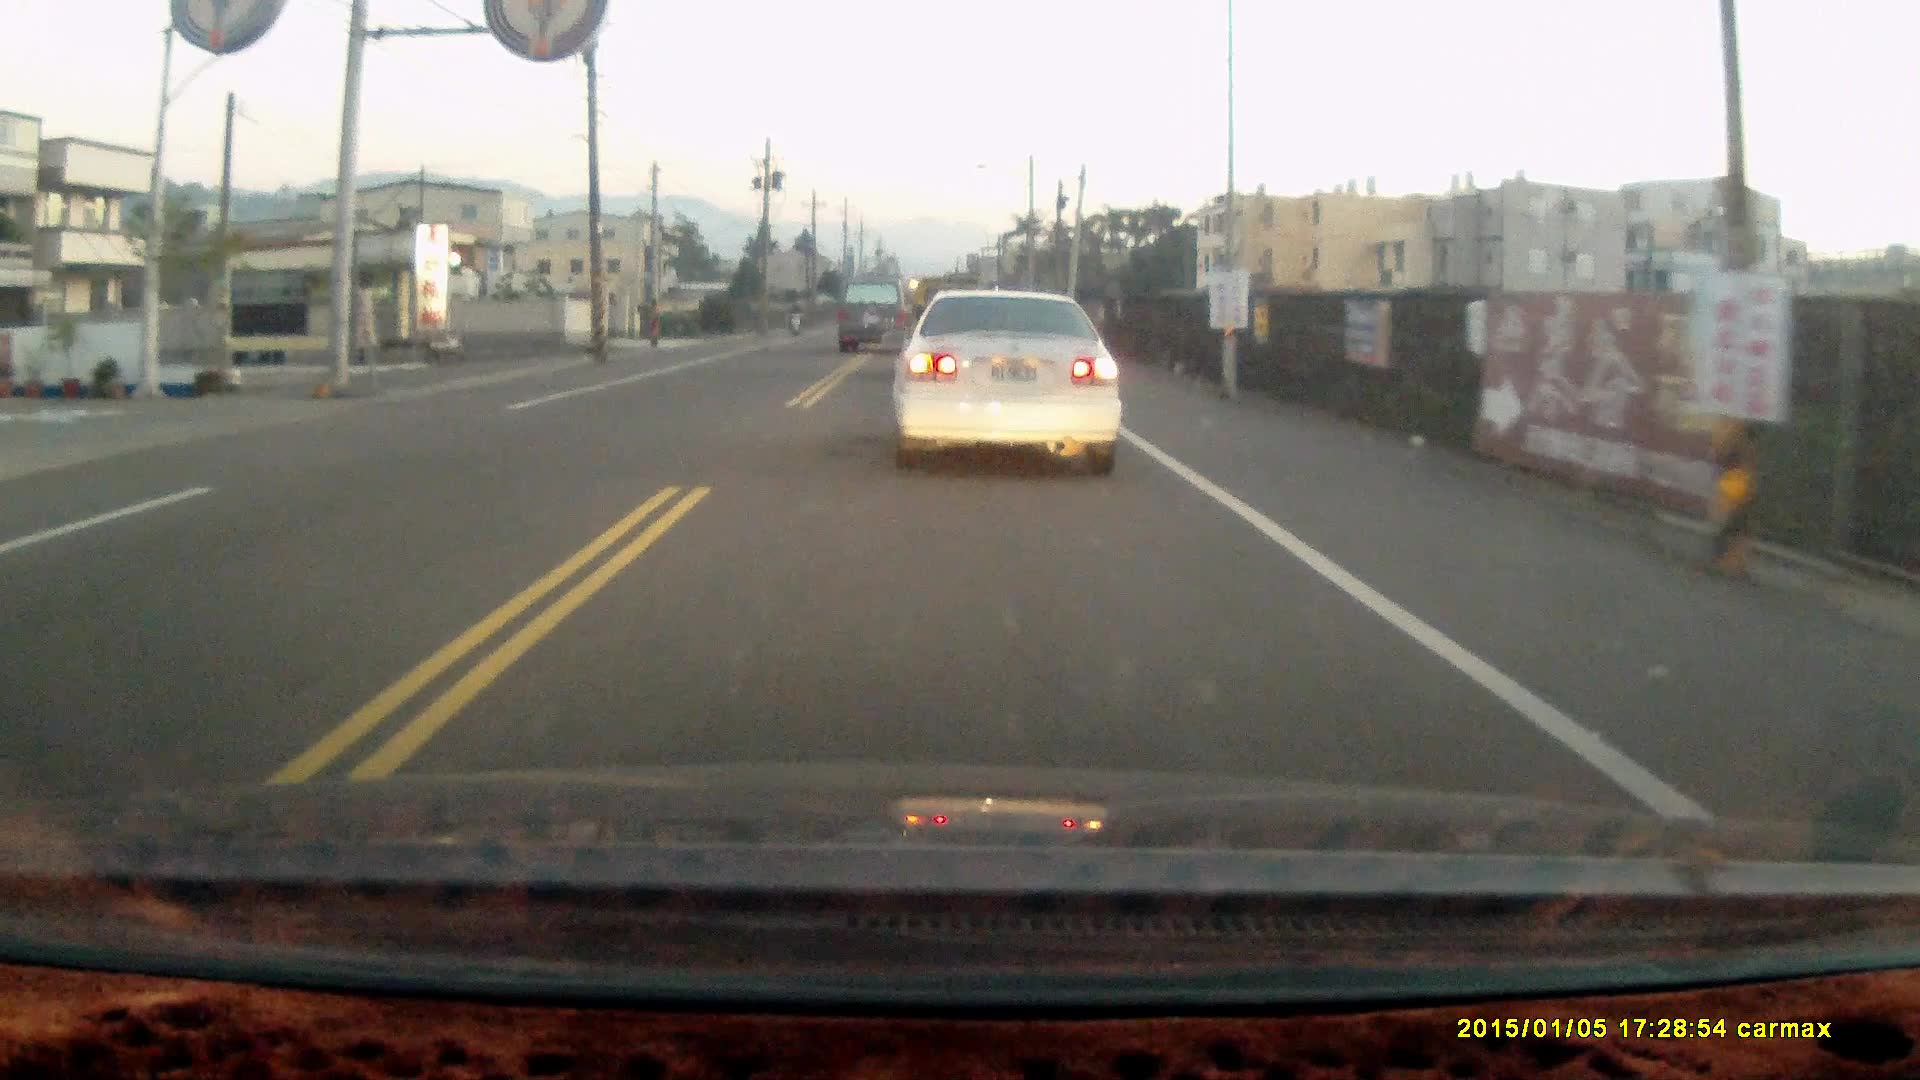rider: (783, 300, 803, 340)
vehicle: (888, 292, 1131, 484), (836, 278, 914, 359)
